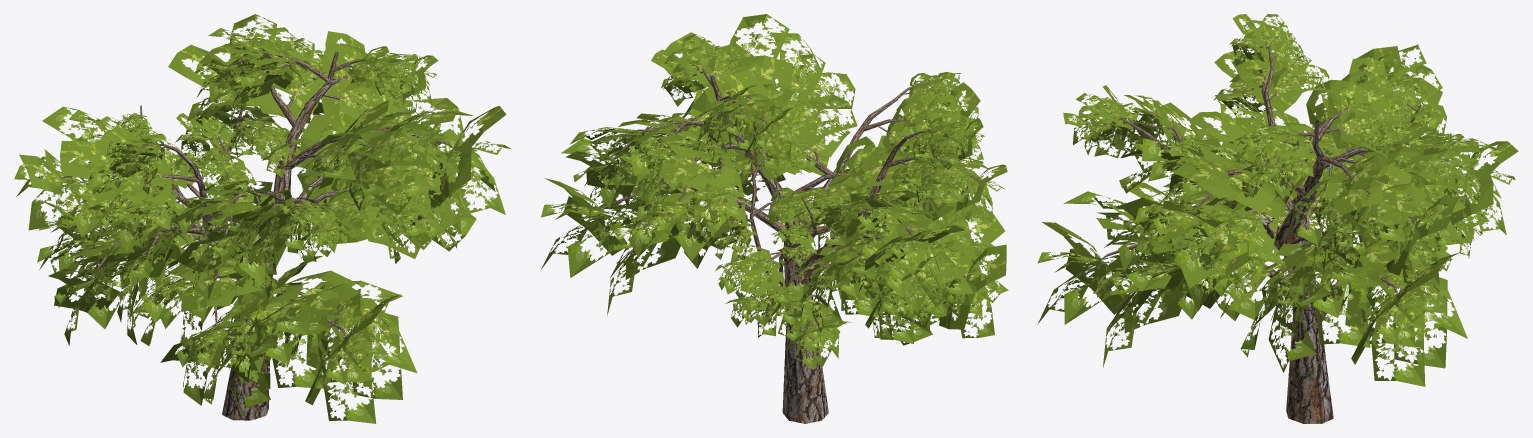
Rendered from tree3.dae.
3 renders of one model, left to right at view 1: azimuth 30°, elevation 25°; view 2: azimuth 150°, elevation 25°; view 3: azimuth 270°, elevation 25°, orthographic. The views are drawn at different scales.
Visible parts, largest first — view 1: tree_oak_joined; view 2: tree_oak_joined; view 3: tree_oak_joined.
Boxes of the visible parts, bbox=[...] form: tree_oak_joined: bbox=[14, 14, 511, 423]; tree_oak_joined: bbox=[541, 14, 1008, 423]; tree_oak_joined: bbox=[1037, 14, 1518, 423].
Bounding box in the file's own units: 5.7 × 5.36 × 4.35.
Materials: 2 (2 with a texture image).
